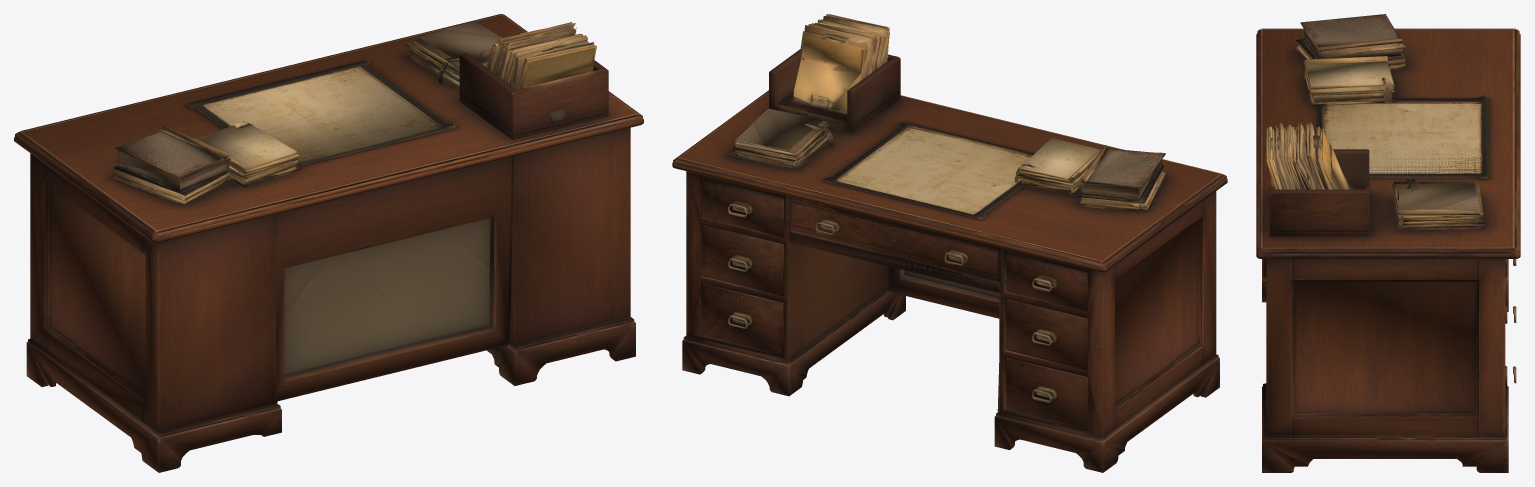
File: furniture-writing-desk.glb
3 renders of one model, left to right at view 1: azimuth 30°, elevation 25°; view 2: azimuth 150°, elevation 25°; view 3: azimuth 270°, elevation 25°, orthographic. The views are drawn at different scales.
Parts seen in each view (by area): view 1: tripo_node_f6cd1ad5-e30e-4b6a-9f87-fdc6d8d455e3; view 2: tripo_node_f6cd1ad5-e30e-4b6a-9f87-fdc6d8d455e3; view 3: tripo_node_f6cd1ad5-e30e-4b6a-9f87-fdc6d8d455e3.
Part boxes in pixels (left/top/right/bottom): tripo_node_f6cd1ad5-e30e-4b6a-9f87-fdc6d8d455e3: left=14, top=14, right=643, bottom=472; tripo_node_f6cd1ad5-e30e-4b6a-9f87-fdc6d8d455e3: left=672, top=14, right=1227, bottom=472; tripo_node_f6cd1ad5-e30e-4b6a-9f87-fdc6d8d455e3: left=1256, top=14, right=1520, bottom=472.
Size of the model in its own units: 1.3 by 0.82 by 0.65.
1 material, 1 textured.
